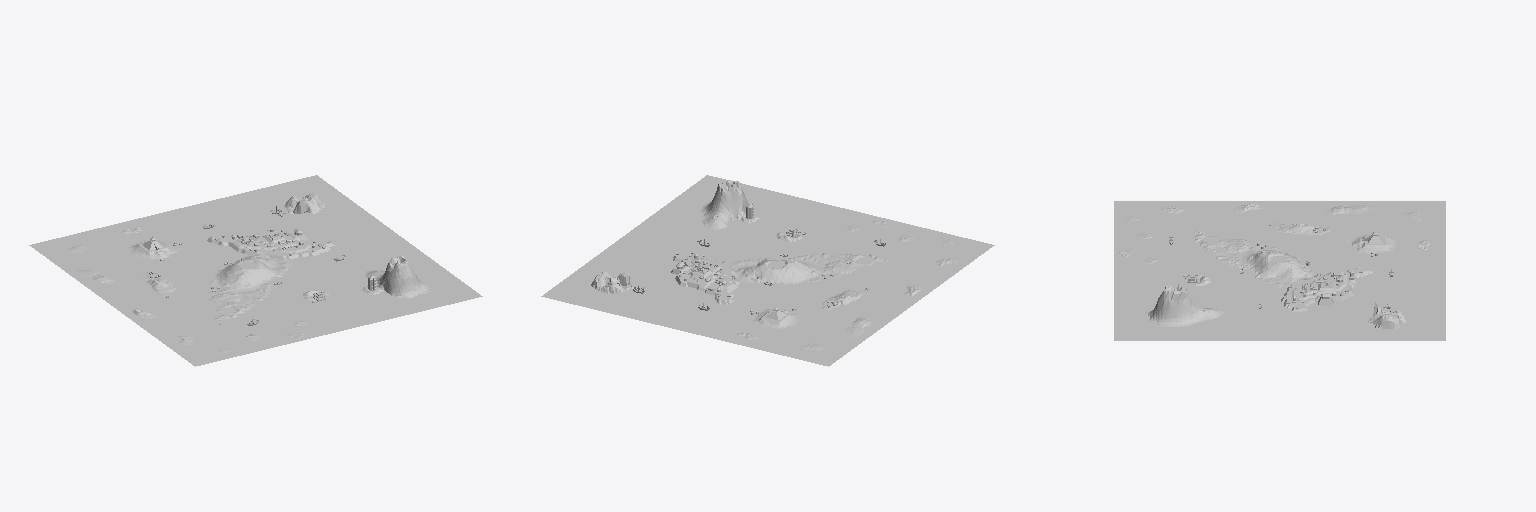
The model's file is Dagger_Wound_Island_Map.obj.
3 views of the same model, side by side, from view 1: azimuth 30°, elevation 25°; view 2: azimuth 150°, elevation 25°; view 3: azimuth 270°, elevation 25° (orthographic).
Visible parts, largest first — view 1: _Ground_; view 2: _Ground_; view 3: _Ground_.
Boxes of the visible parts, x1=… form: _Ground_: x1=29, y1=175, x2=482, y2=366; _Ground_: x1=541, y1=175, x2=994, y2=366; _Ground_: x1=1114, y1=201, x2=1445, y2=340.
Size of the model in its own units: 65024 by 6432 by 65024.